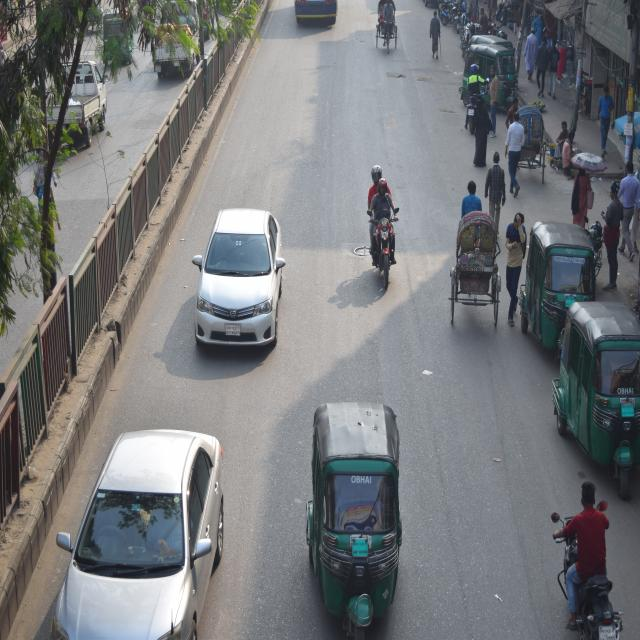car: (44, 417, 232, 640), (190, 193, 290, 358)
motorbike: (547, 490, 640, 640), (364, 166, 403, 284), (576, 202, 612, 271), (436, 0, 474, 38)
pickup-van: (39, 50, 114, 149)
